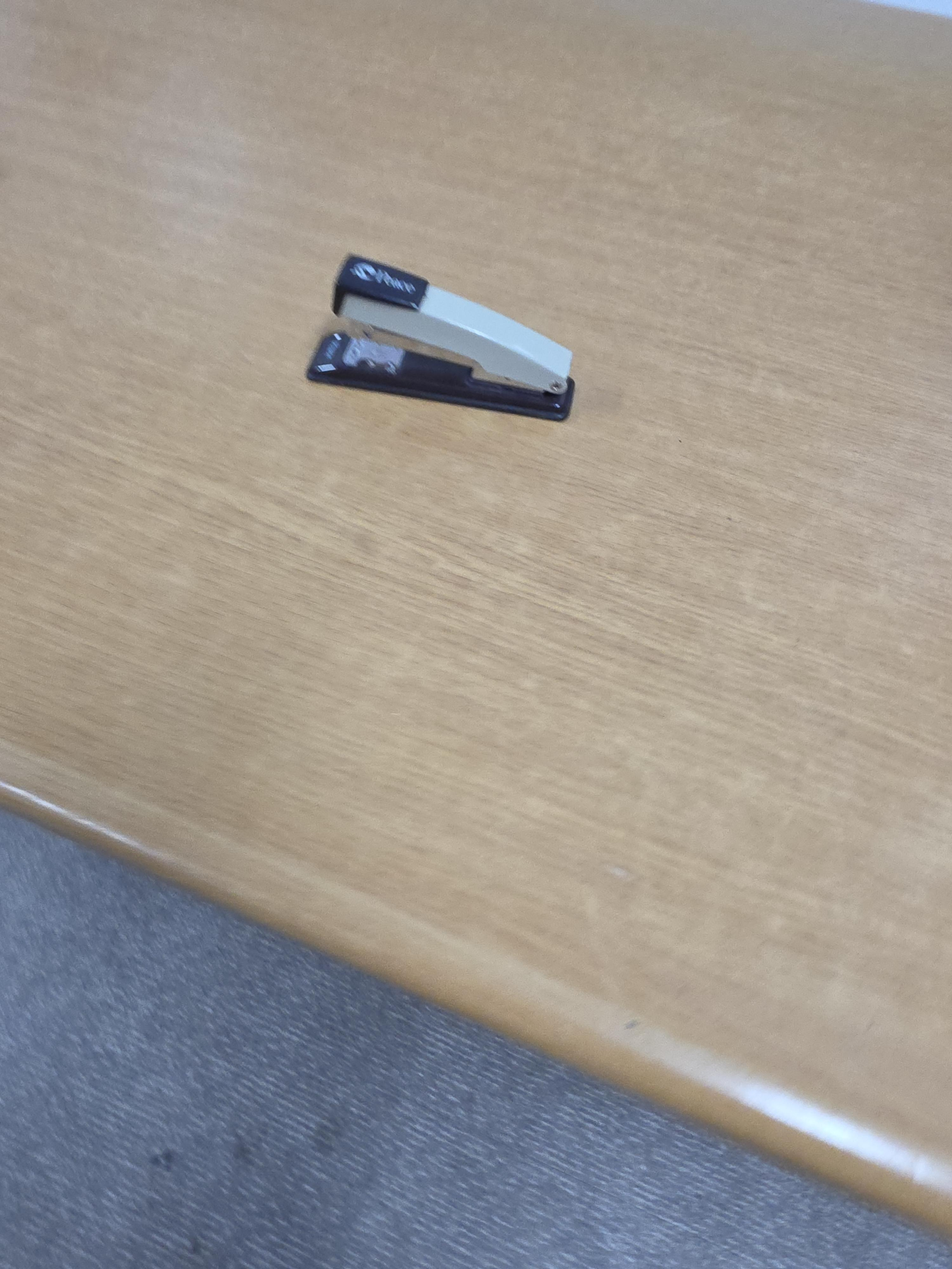stapler: (306, 252, 576, 423)
